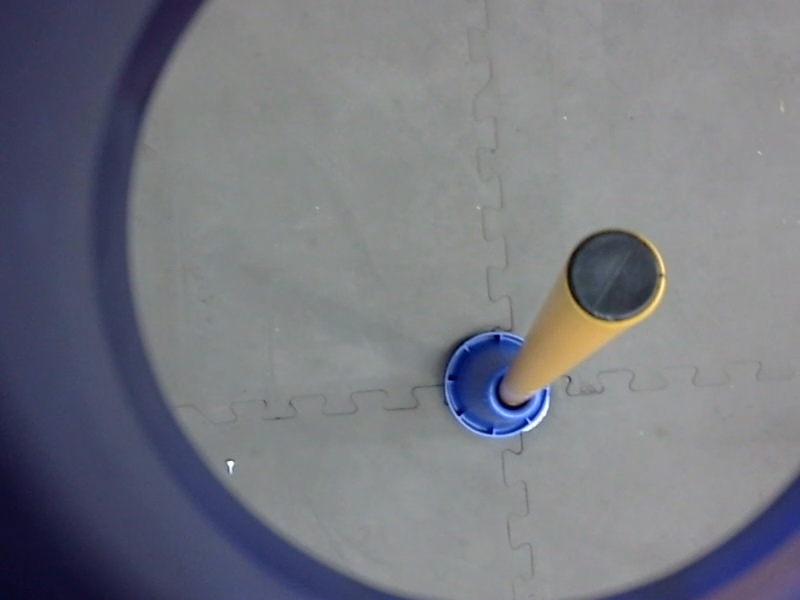tip: (558, 222, 670, 330)
